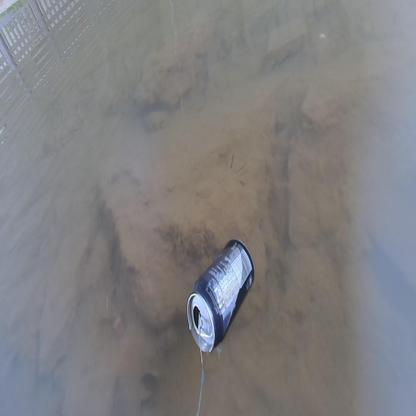can: (186, 239, 254, 354)
